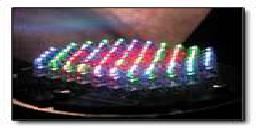LED: (28, 36, 223, 83)
